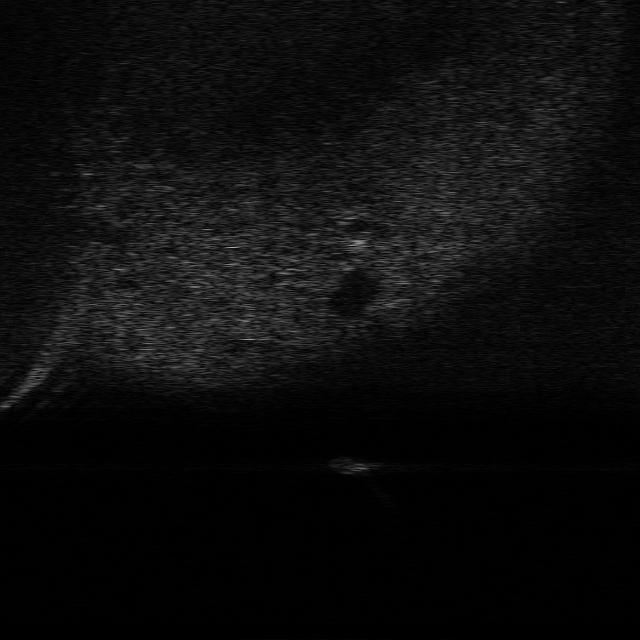cube: (330, 456, 384, 477)
